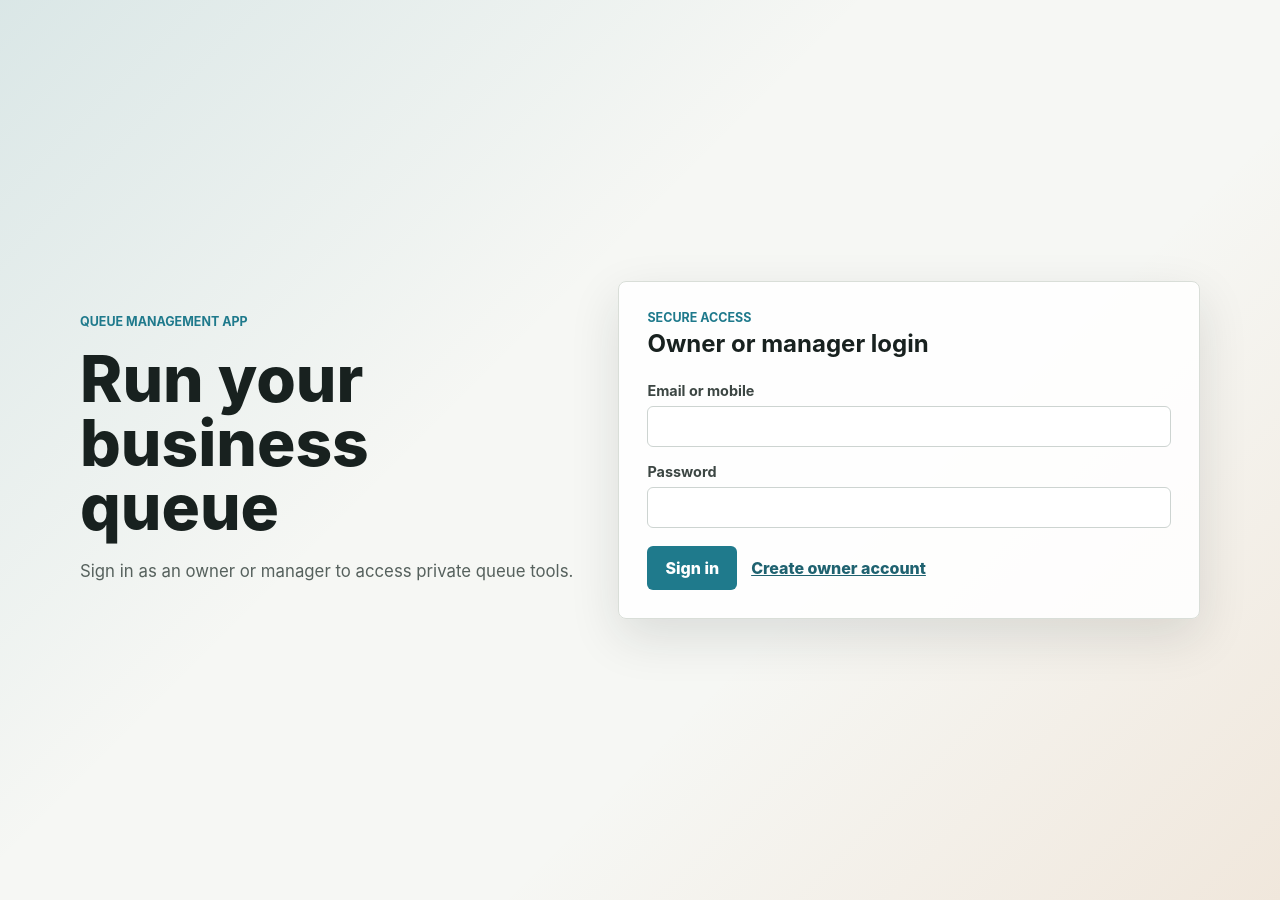
Test: LoginComponent › should store login token and navigate to dashboard after successful login
This screenshot has width=1280, height=900.
Step 1. Type "priya@example.com" into the field named "identifier" → (909, 426), box x1=648 y1=406 x2=1171 y2=447
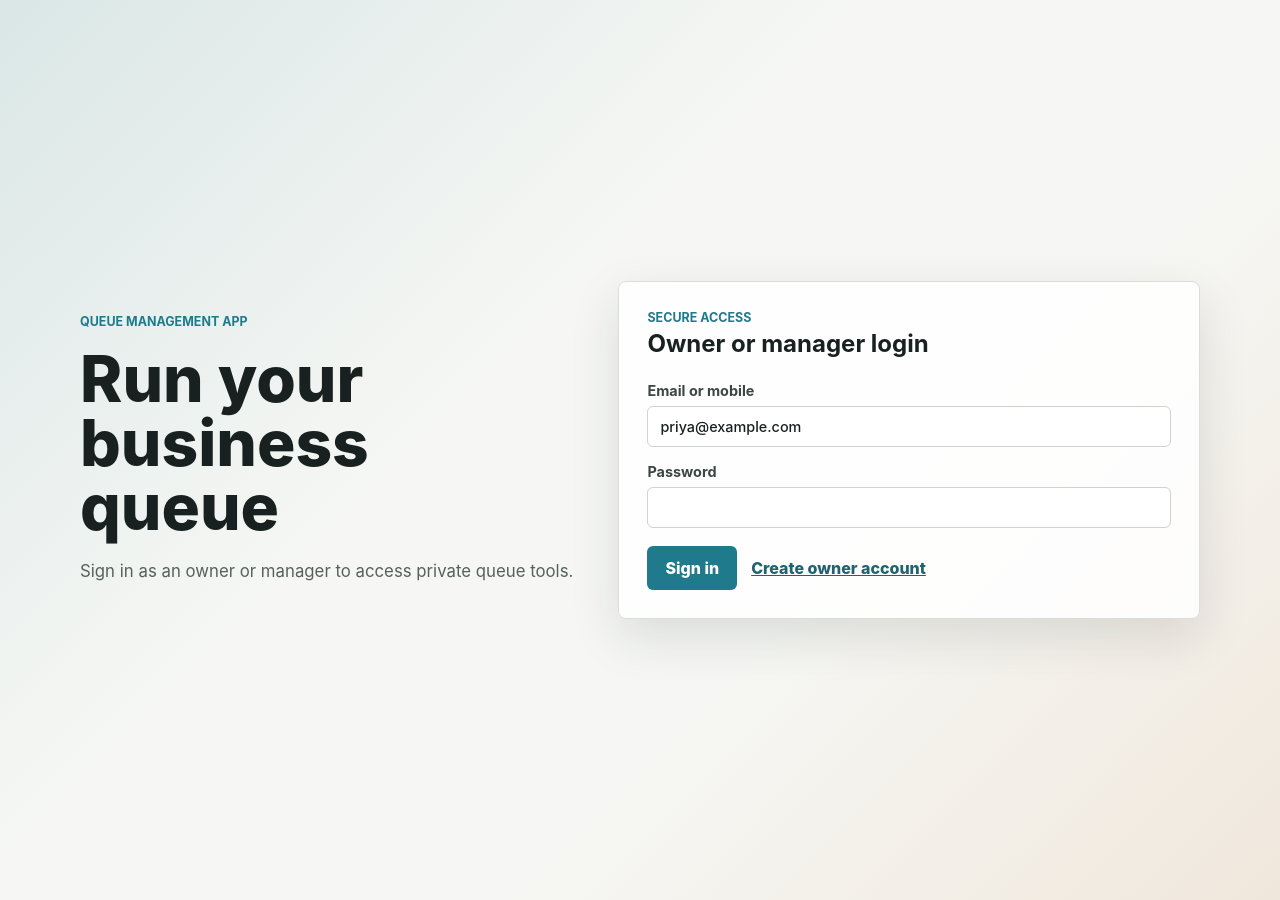
Step 2. Type "StrongPass123" into the password field named "password" → (909, 508), box x1=648 y1=487 x2=1171 y2=528
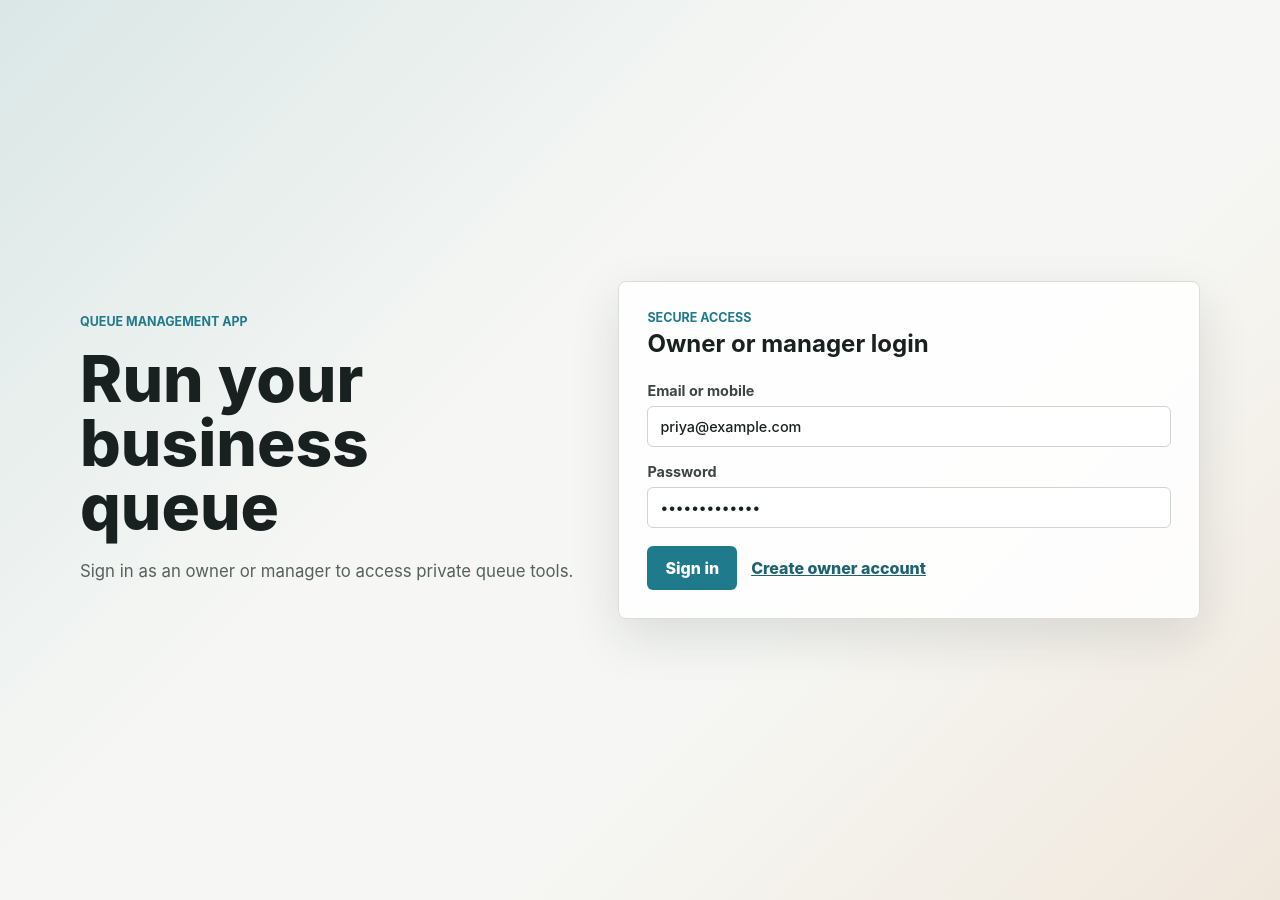
Step 3. Submit the form with class "login-form", box x1=648 y1=382 x2=1171 y2=590
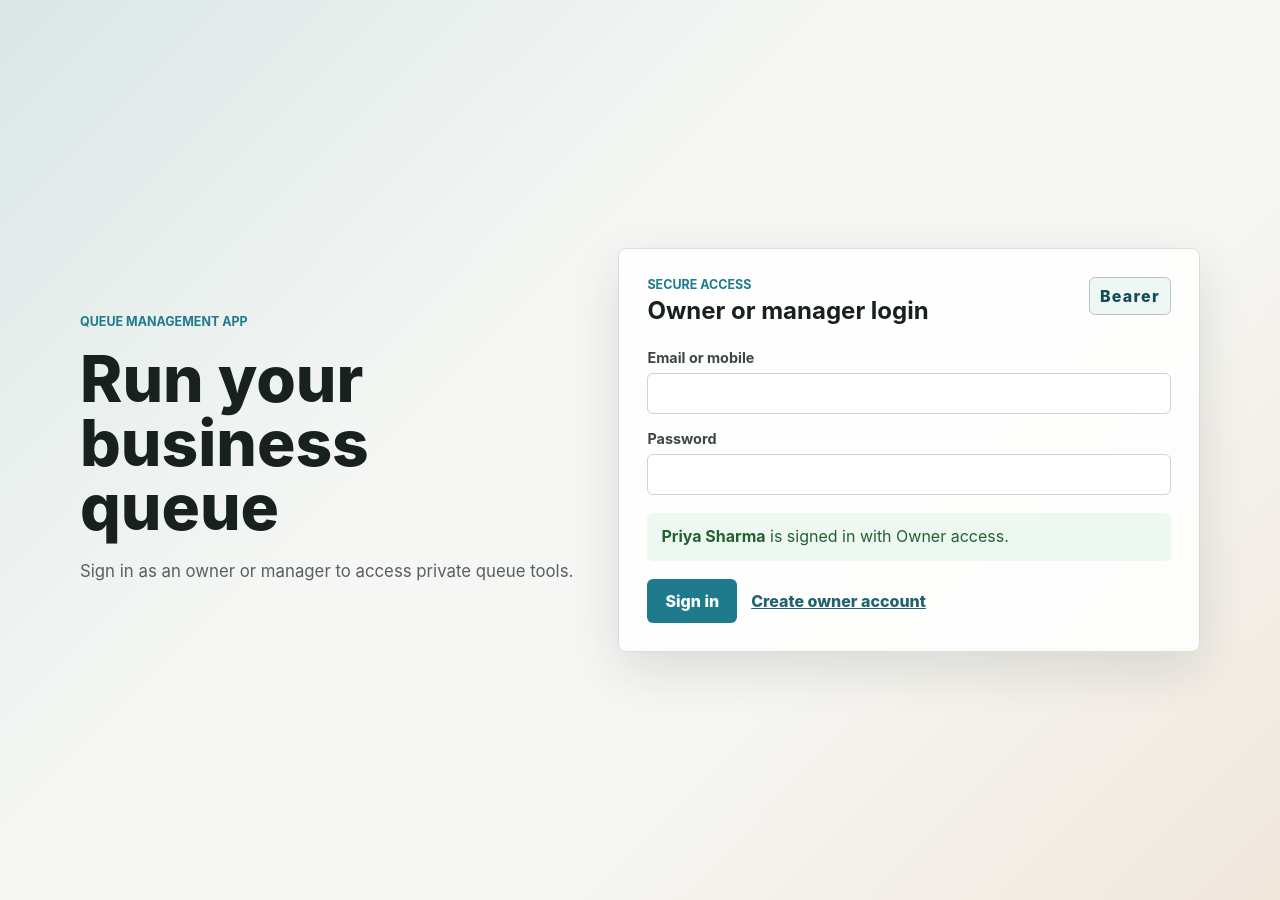
Expected: the message "Priya Sharma is signed in with Owner access." is shown, x1=648 y1=513 x2=1171 y2=561
